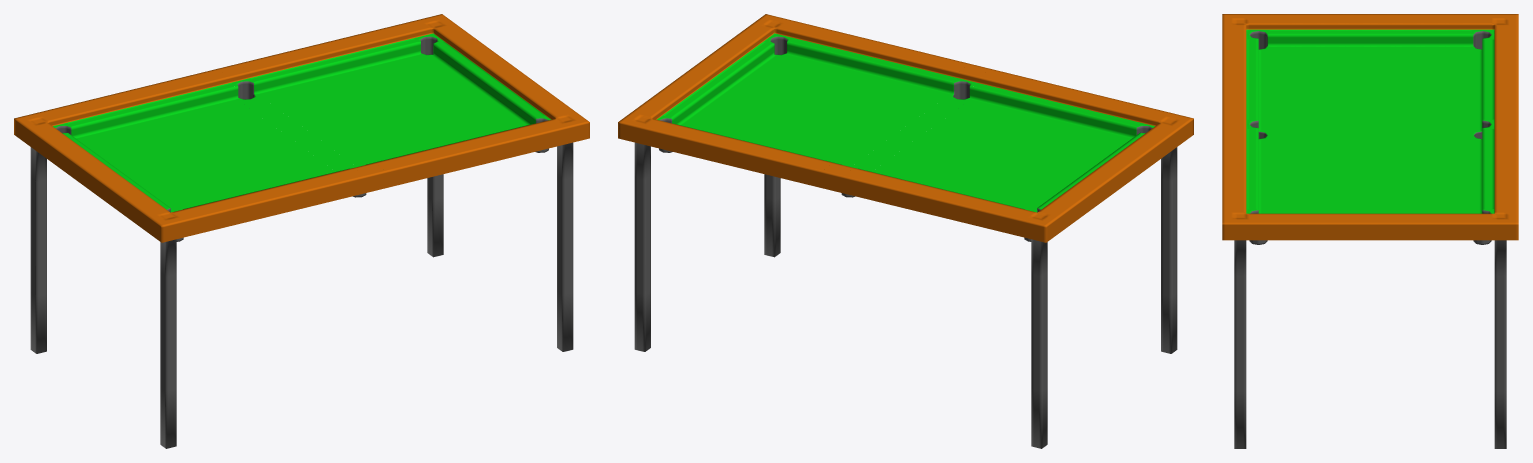
File: stol.fbx
The picture shows the model from 3 angles, left to right: view 1: azimuth 30°, elevation 25°; view 2: azimuth 150°, elevation 25°; view 3: azimuth 270°, elevation 25°; orthographic projection.
Parts seen in each view (by area): view 1: Plane; view 2: Plane; view 3: Plane.
Boxes of the visible parts, <box> form: Plane: <box>14,14,589,448</box>; Plane: <box>618,14,1193,448</box>; Plane: <box>1222,14,1518,448</box>.
Size of the model in its own units: 820 by 420 by 490.
